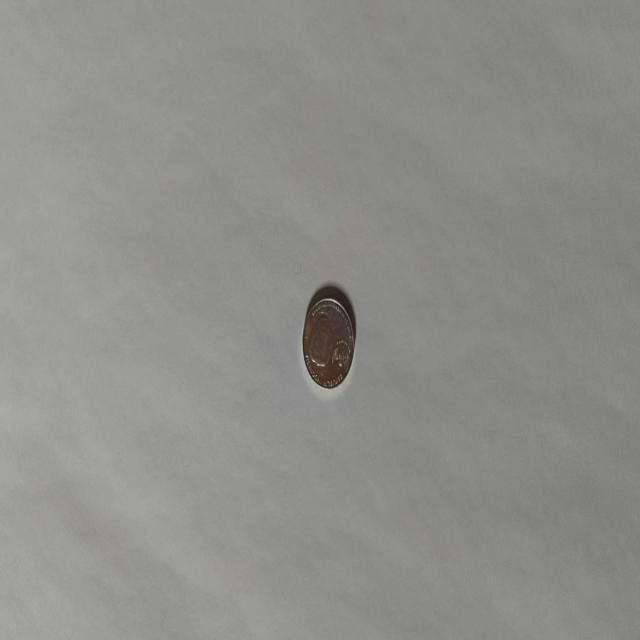seratus rupiah: (301, 295, 355, 389)
